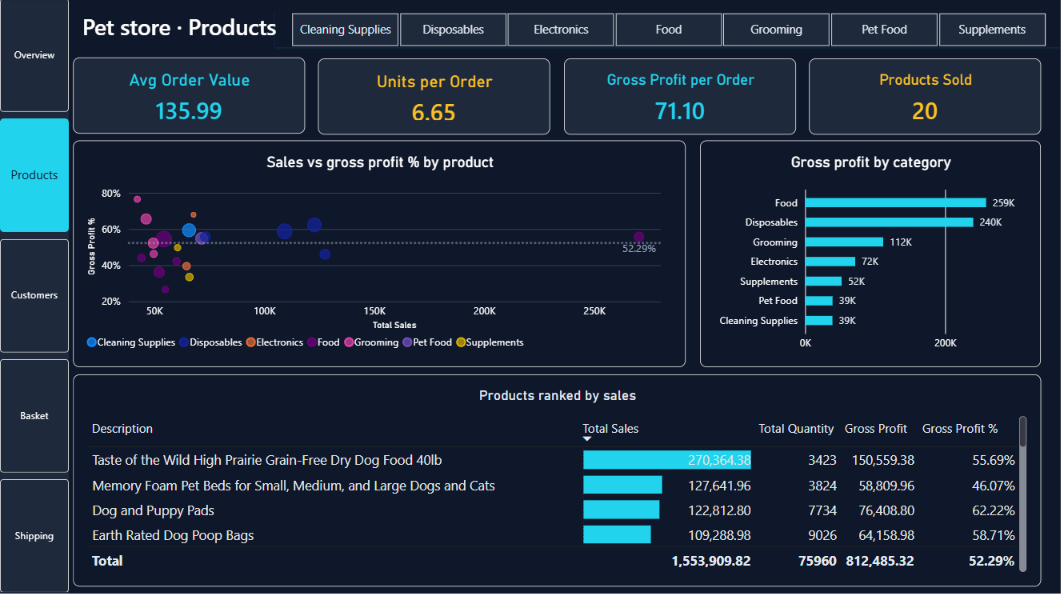

This screenshot's page, from the dashboard's own definition file:
{"tool":"powerbi","page":{"name":"Products","canvas":[1280,720],"ordinal":1},"visuals":[{"type":"shape","box":[0,0,83,720],"z":0},{"type":"textbox","box":[63.6,16.2,304.5,53.7],"z":1000},{"type":"card","title":"Avg Order Value","fields":{"Values":["Sales.Avg Order Value"]},"box":[88,71,280,92],"z":2000},{"type":"card","title":"Units per Order","fields":{"Values":["Sales.Units per Order"]},"box":[384,72,280,92],"z":3000},{"type":"card","title":"Gross Profit per Order","fields":{"Values":["Sales.Gross Profit per Order"]},"box":[680,72,280,92],"z":4000},{"type":"card","title":"Products Sold","fields":{"Values":["Sales.Products Sold"]},"box":[976,72,280,92],"z":5000},{"type":"slicer","fields":{"Values":["Products.Category"]},"box":[331.8,15.7,948.3,43.4],"z":5001},{"type":"scatterChart","title":"Sales vs gross profit % by product","fields":{"Category":["Products.Description"],"Series":["Products.Category"],"Size":["Sales.Total Quantity"],"X":["Sales.Total Sales"],"Y":["Sales.Gross Profit %"]},"box":[88.1,171.3,739.5,273.9],"z":5002},{"type":"clusteredBarChart","title":"Gross profit by category","fields":{"Category":["Products.Category"],"Y":["Sales.Gross Profit"]},"box":[844.5,171.3,411.4,273.9],"z":5003},{"type":"tableEx","title":"Products ranked by sales","fields":{"Values":["Products.Description","Sales.Total Sales","Sales.Total Quantity","Sales.Gross Profit","Sales.Gross Profit %"]},"box":[88.1,453.6,1167.8,255.8],"z":5004},{"type":"pageNavigator","box":[0,0,83.2,720.2],"z":5005}]}

Visuals, with their boxes in screenshot pixels (x1, y1, x2, y2), scaled from the page's 1280x720 canvas onto the 1061x594 screenshot:
shape: bbox=(0, 0, 69, 593)
textbox: bbox=(53, 13, 305, 58)
"Avg Order Value" card: bbox=(73, 59, 305, 134)
"Units per Order" card: bbox=(318, 59, 550, 135)
"Gross Profit per Order" card: bbox=(564, 59, 796, 135)
"Products Sold" card: bbox=(809, 59, 1041, 135)
slicer - Products.Category: bbox=(275, 13, 1060, 49)
"Sales vs gross profit % by product" scatterChart: bbox=(73, 141, 686, 367)
"Gross profit by category" clusteredBarChart: bbox=(700, 141, 1041, 367)
"Products ranked by sales" tableEx: bbox=(73, 374, 1041, 585)
pageNavigator: bbox=(0, 0, 69, 593)
